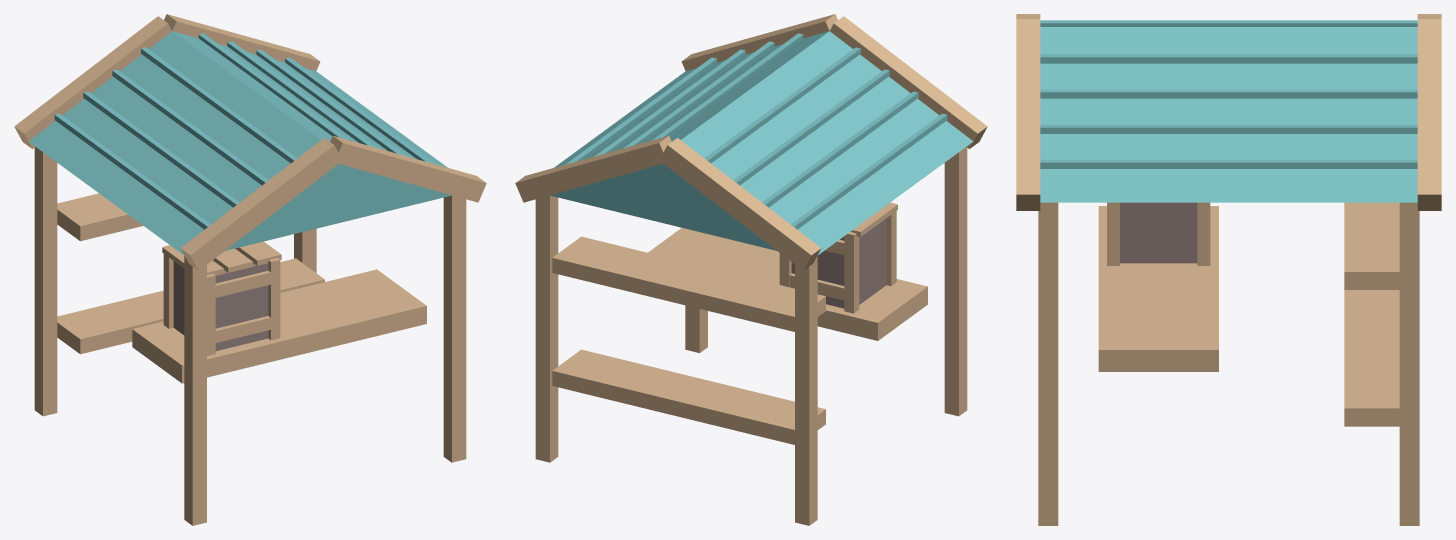
Rendered from meadow-courier-parcel-market-awning.glb.
3 views of the same model, side by side, from view 1: azimuth 30°, elevation 25°; view 2: azimuth 150°, elevation 25°; view 3: azimuth 270°, elevation 25° (orthographic). The views are drawn at different scales.
Visible parts, largest first — view 1: meadow-courier-market-awning; view 2: meadow-courier-market-awning; view 3: meadow-courier-market-awning.
Part boxes in pixels (x1,y1,x2,y2): meadow-courier-market-awning: (14,14,486,525); meadow-courier-market-awning: (515,14,987,525); meadow-courier-market-awning: (1016,14,1441,525).
Size of the model in its own units: 2.06 by 2.36 by 2.12.
